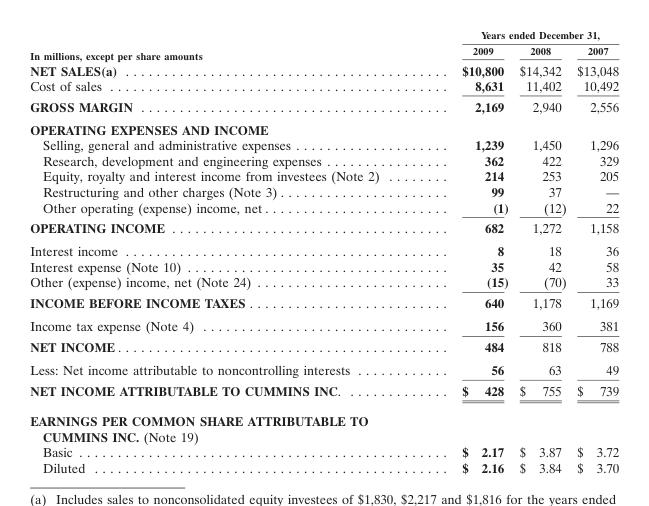table: (29, 28, 618, 475)
table column: (29, 28, 420, 475), (420, 28, 513, 475), (513, 28, 571, 475), (571, 28, 618, 475)
table column header: (29, 28, 618, 61)
table projected row header: (29, 405, 618, 444), (29, 117, 618, 137)
table row: (29, 405, 618, 444), (29, 380, 618, 405), (29, 95, 618, 117), (29, 217, 618, 239), (29, 292, 618, 314), (29, 314, 618, 336), (29, 336, 618, 358), (29, 358, 618, 380), (29, 117, 618, 137), (29, 42, 618, 61), (29, 239, 618, 258), (29, 77, 618, 95), (29, 199, 618, 217), (29, 274, 618, 292), (29, 61, 618, 77), (29, 152, 618, 168), (29, 183, 618, 199), (29, 258, 618, 274), (29, 459, 618, 475), (29, 137, 618, 152), (29, 168, 618, 183), (29, 444, 618, 459), (29, 28, 618, 42)
table spanning cell: (29, 28, 419, 61), (419, 28, 618, 42)
